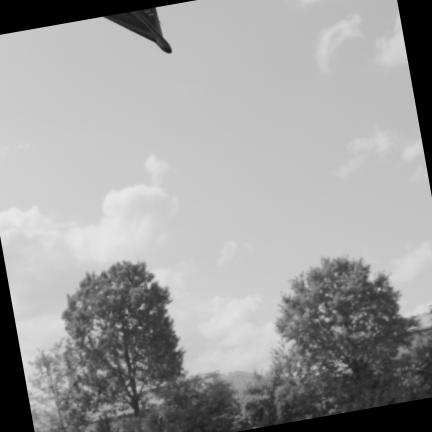Shahed: (104, 7, 170, 53)
